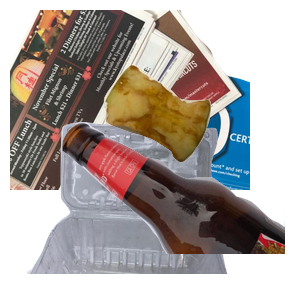glass: (60, 120, 300, 300)
paper: (10, 10, 250, 190)
plastic: (25, 120, 245, 300)
trash: (101, 62, 300, 217)
